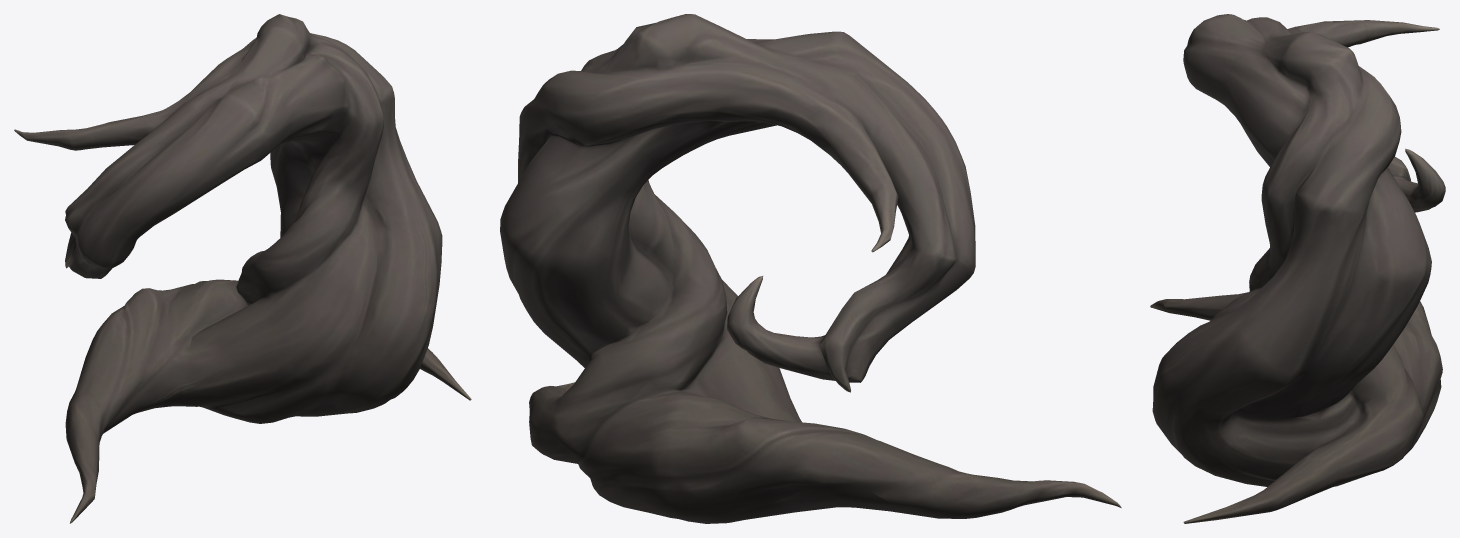
File: swirly_tree_02_a.glb
The picture shows the model from 3 angles, left to right: view 1: azimuth 30°, elevation 25°; view 2: azimuth 150°, elevation 25°; view 3: azimuth 270°, elevation 25°; orthographic projection. The views are drawn at different scales.
Visible parts, largest first — view 1: SM_KC_SWIRLYTREE_02_A; view 2: SM_KC_SWIRLYTREE_02_A; view 3: SM_KC_SWIRLYTREE_02_A.
Part boxes in pixels (<box>): SM_KC_SWIRLYTREE_02_A: <box>14,14,471,523</box>; SM_KC_SWIRLYTREE_02_A: <box>500,14,1121,523</box>; SM_KC_SWIRLYTREE_02_A: <box>1150,14,1445,523</box>.
Size of the model in its own units: 5.96 by 5.2 by 3.23.
Materials: 1 (1 with a texture image).
